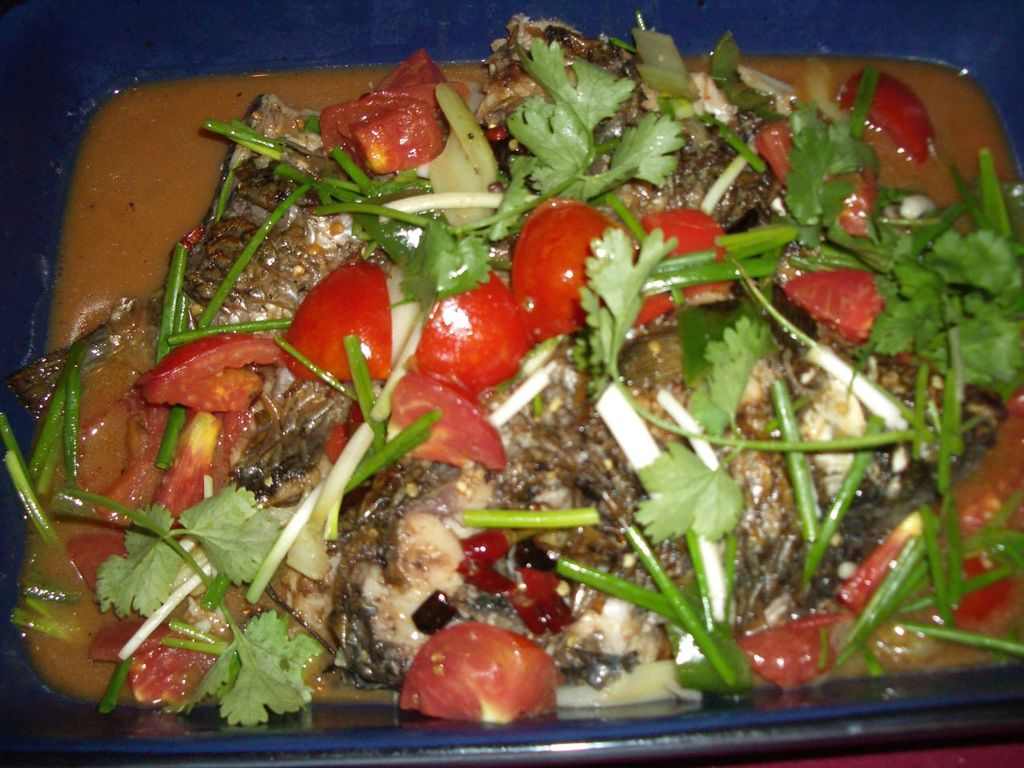salad: (0, 14, 1023, 724)
